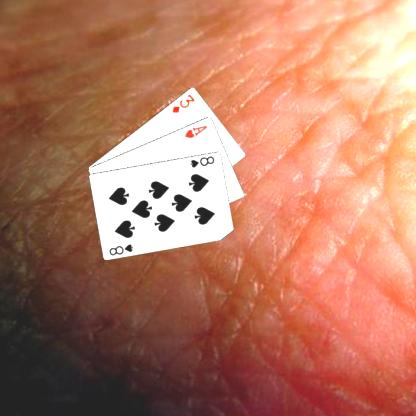3D: (170, 91, 196, 114)
8S: (106, 241, 135, 257), (187, 153, 216, 168)
AH: (182, 122, 209, 140)
